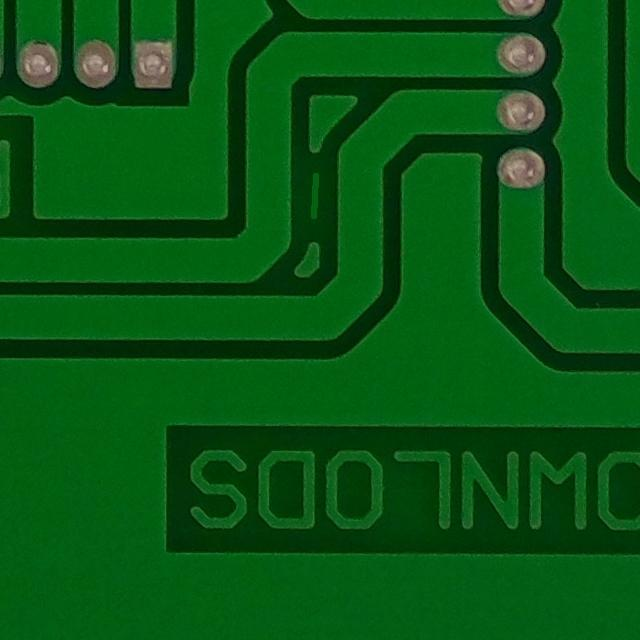spurious_copper: (302, 159, 333, 229)
